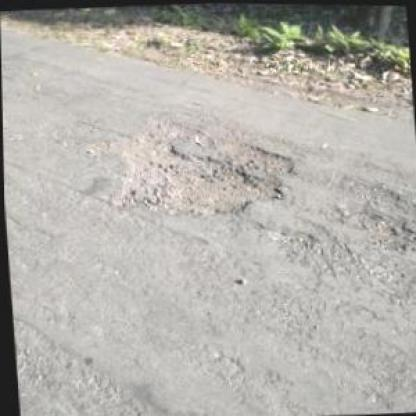pothole: (78, 111, 300, 225)
